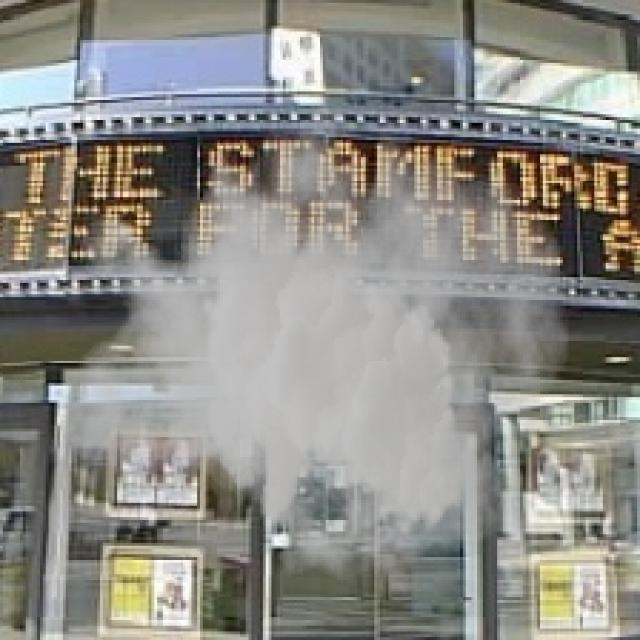smoke: (57, 69, 572, 597)
